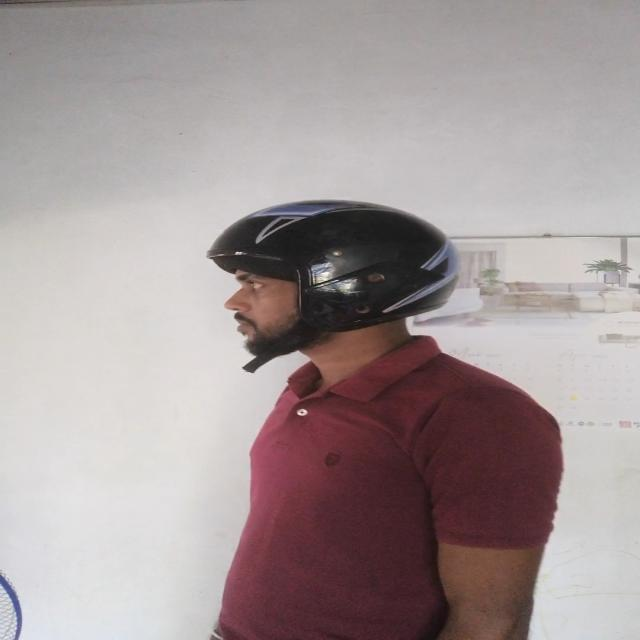Helmet_Wearer: (188, 188, 471, 389)
